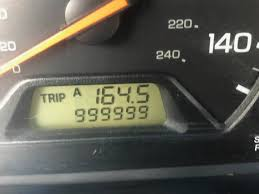Digital_Meter: (28, 80, 156, 127)
